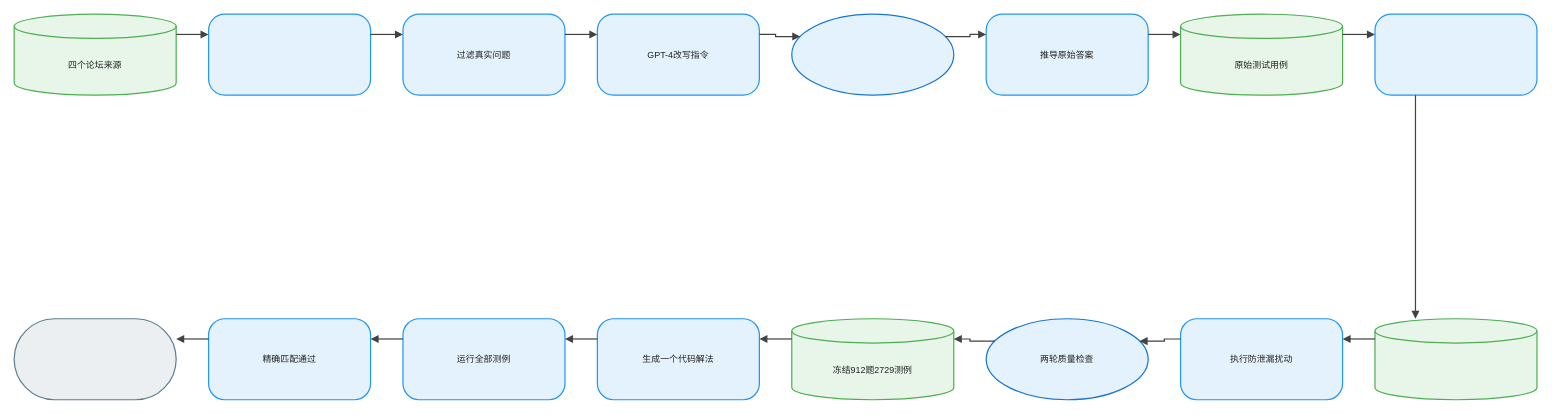
Image size: 1552x415. Some labels were removed from this diagram. Here are the shapes that lost their labels. From the top down, the centre of each, then its label:
At point 289,54: "筛选已解决帖子".
At point 872,54: "人工核验定位".
At point 1455,54: "两次修改数据".
At point 94,359: "软OJ与硬OJ".
At point 1455,359: "增加两个测例".
